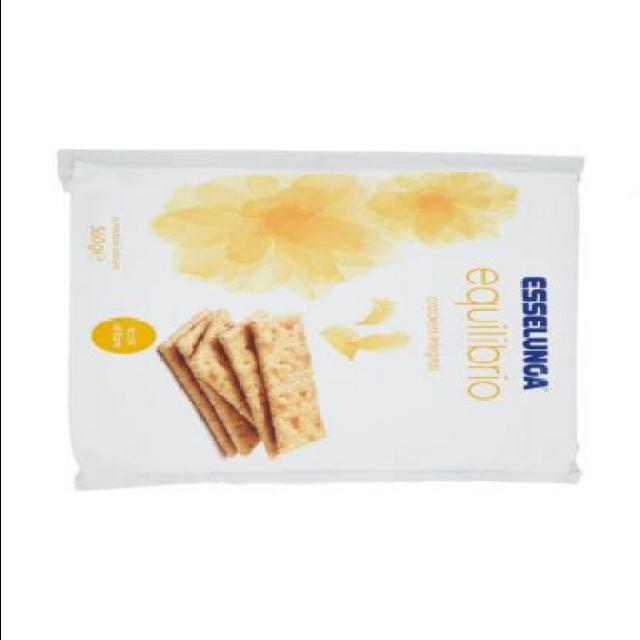Cracker: (62, 148, 588, 500)
